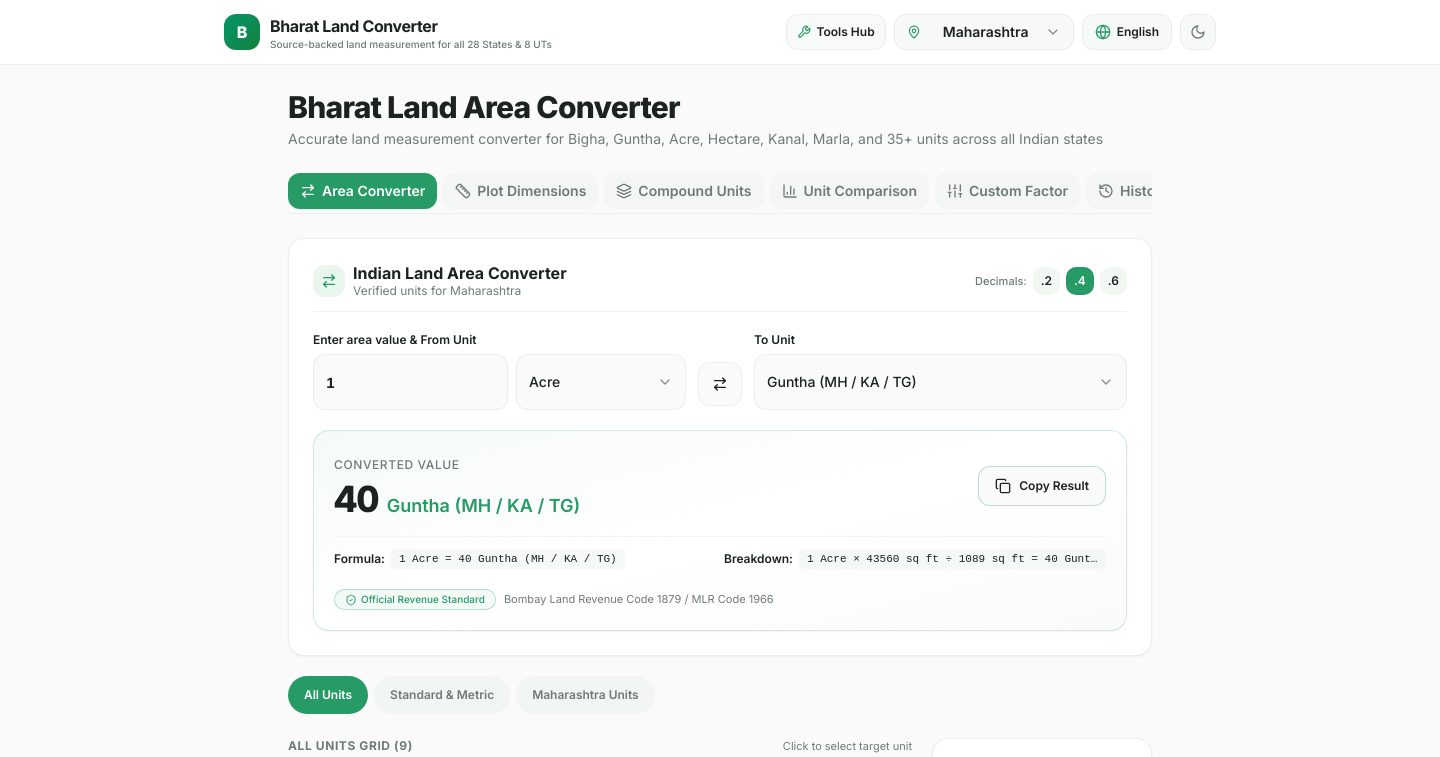
Bharat Land Converter — Functional UI & Workflow Tests › 2. Entering a numeric value updates the conversion in real time
The width and height of the screenshot is (1440, 757).
Replace the text in the field labelled "Enter area value & From Unit" with "2.5" at (410, 382), box [313,354,508,410]
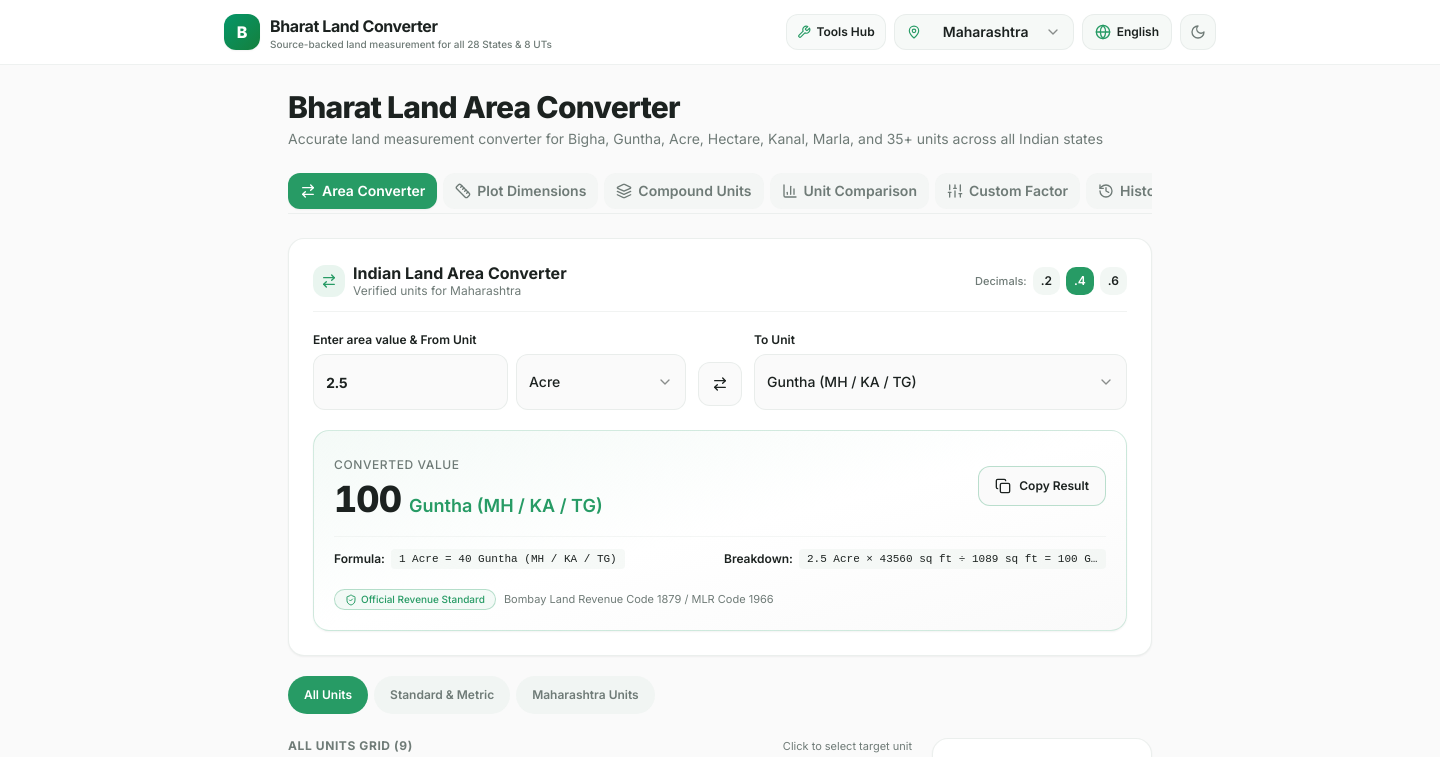
Result: the text with test id "primary-result-value" reads "100" at [334,477,401,521]
